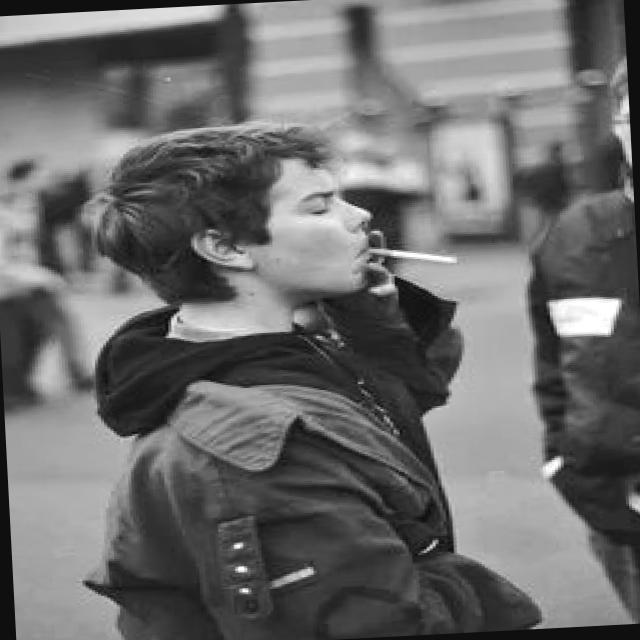smoke: (354, 240, 466, 274)
